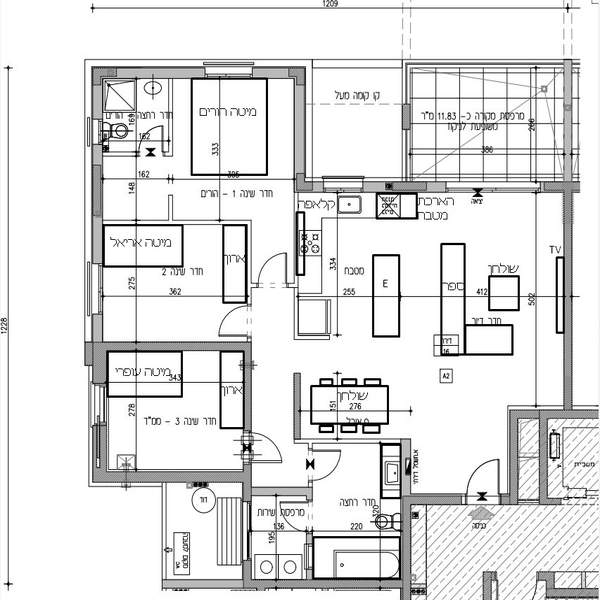door: (464, 449, 508, 512), (269, 493, 316, 544), (308, 444, 353, 485), (241, 434, 289, 472), (253, 243, 293, 288), (213, 307, 259, 338), (139, 125, 170, 154)
room: (84, 60, 323, 351), (294, 175, 577, 418), (237, 432, 416, 589), (82, 334, 249, 489)
wall: (562, 63, 577, 408), (159, 575, 414, 594), (393, 438, 417, 600), (107, 339, 257, 360), (88, 142, 111, 271), (294, 71, 315, 204), (104, 468, 246, 487), (82, 314, 114, 392), (363, 174, 447, 202), (236, 338, 260, 434), (84, 63, 200, 81), (536, 401, 556, 505), (252, 59, 315, 84), (288, 367, 307, 443), (505, 404, 519, 505), (509, 403, 600, 418), (87, 424, 109, 484), (400, 489, 465, 506), (251, 484, 314, 501), (553, 585, 599, 600), (537, 568, 556, 600), (482, 567, 500, 599)
window: (448, 173, 546, 193), (445, 173, 546, 192), (85, 267, 112, 319), (238, 496, 258, 563), (308, 174, 369, 194), (88, 384, 115, 421), (207, 62, 248, 83), (320, 181, 367, 198), (90, 122, 109, 143)
